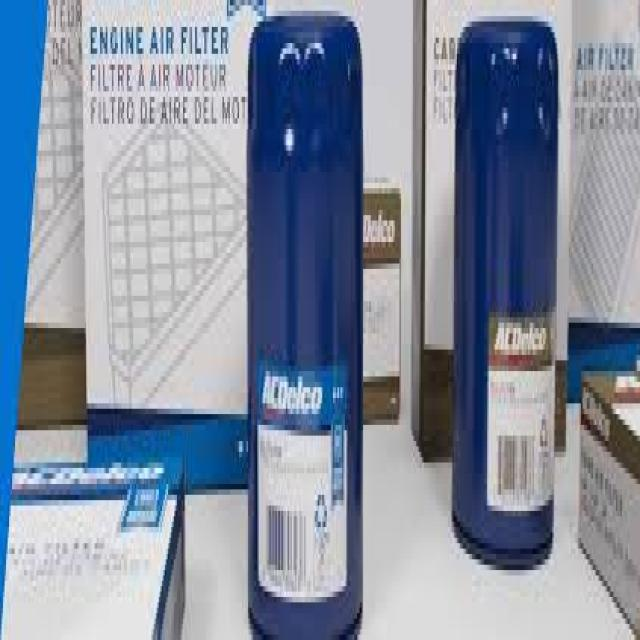oil_filter: (243, 16, 370, 640), (454, 12, 561, 576)
